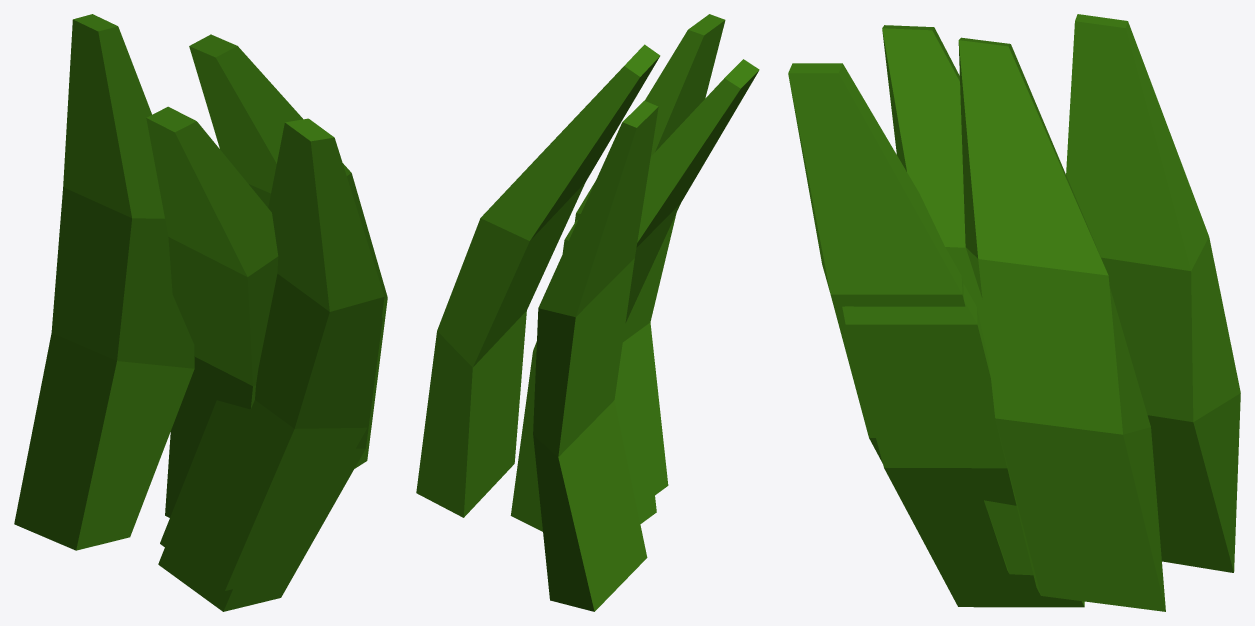
File: grass.fbx
3 renders of one model, left to right at view 1: azimuth 30°, elevation 25°; view 2: azimuth 150°, elevation 25°; view 3: azimuth 270°, elevation 25°, orthographic. The views are drawn at different scales.
Parts seen in each view (by area): view 1: Plane.003, Plane, Plane.002, Plane.004, Plane.001; view 2: Plane.003, Plane.004, Plane, Plane.002; view 3: Plane.004, Plane.003, Plane.001, Plane, Plane.002.
Boxes of the visible parts, bbox=[...] form: Plane.003: bbox=[14, 14, 194, 550]; Plane: bbox=[160, 118, 384, 590]; Plane.002: bbox=[146, 106, 278, 517]; Plane.004: bbox=[189, 34, 387, 468]; Plane.001: bbox=[158, 315, 382, 611]; Plane.003: bbox=[533, 100, 658, 611]; Plane.004: bbox=[416, 44, 660, 517]; Plane: bbox=[574, 14, 725, 508]; Plane.002: bbox=[510, 59, 759, 531]; Plane.004: bbox=[958, 37, 1165, 611]; Plane.003: bbox=[1066, 14, 1240, 572]; Plane.001: bbox=[842, 283, 1084, 607]; Plane: bbox=[788, 63, 965, 463]; Plane.002: bbox=[882, 25, 1033, 575].
Bounding box in the file's own units: 194 × 377 × 283.
